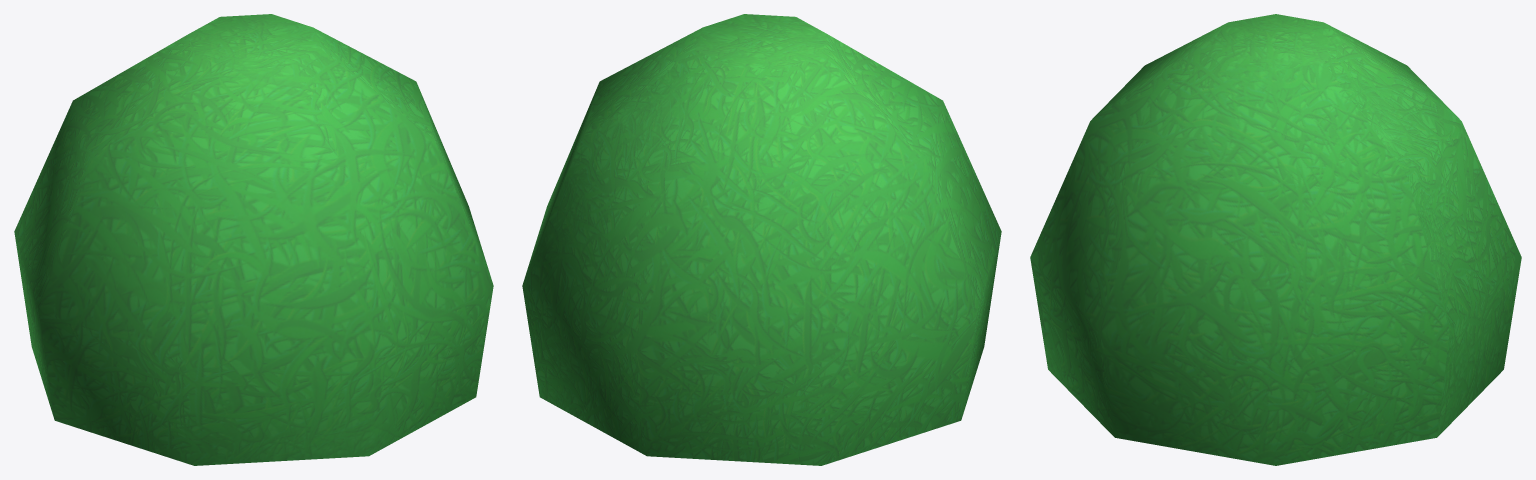
File: Bush.FBX
3 renders of one model, left to right at view 1: azimuth 30°, elevation 25°; view 2: azimuth 150°, elevation 25°; view 3: azimuth 270°, elevation 25°, orthographic.
Parts seen in each view (by area): view 1: Sphere001; view 2: Sphere001; view 3: Sphere001.
Boxes of the visible parts, x1=… form: Sphere001: x1=14, y1=14, x2=493, y2=465; Sphere001: x1=522, y1=14, x2=1001, y2=465; Sphere001: x1=1030, y1=14, x2=1521, y2=465.
Size of the model in its own units: 68.04 by 49.95 by 68.04.
Materials: 1 (1 with a texture image).
